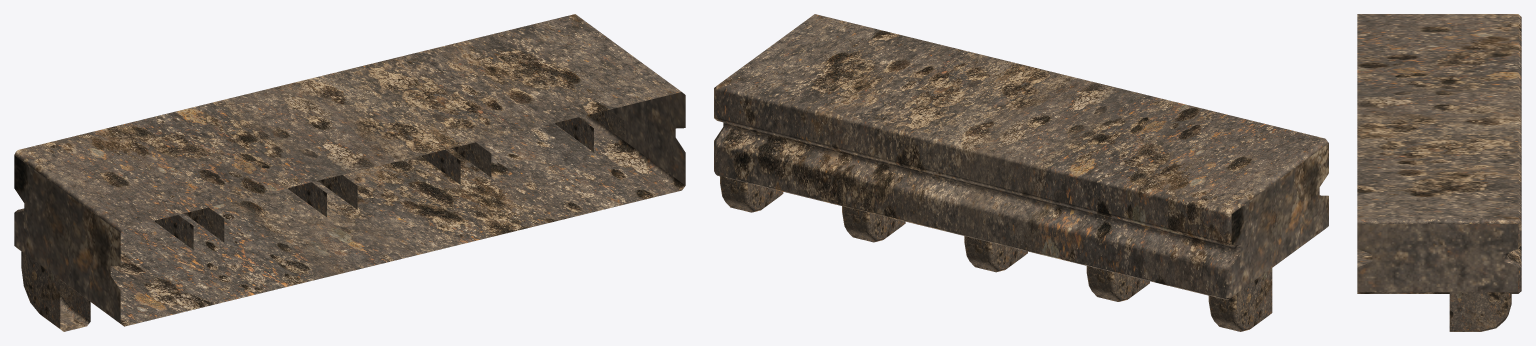
The model's file is Trim3.fbx.
The picture shows the model from 3 angles, left to right: view 1: azimuth 30°, elevation 25°; view 2: azimuth 150°, elevation 25°; view 3: azimuth 270°, elevation 25°; orthographic projection. The views are drawn at different scales.
Parts seen in each view (by area): view 1: Trim3; view 2: Trim3; view 3: Trim3.
Part boxes in pixels (box(x1,y1,x2,y2)): Trim3: box(14, 14, 685, 331); Trim3: box(714, 14, 1328, 331); Trim3: box(1357, 14, 1521, 331).
Bounding box in the file's own units: 300 × 75.47 × 100.
